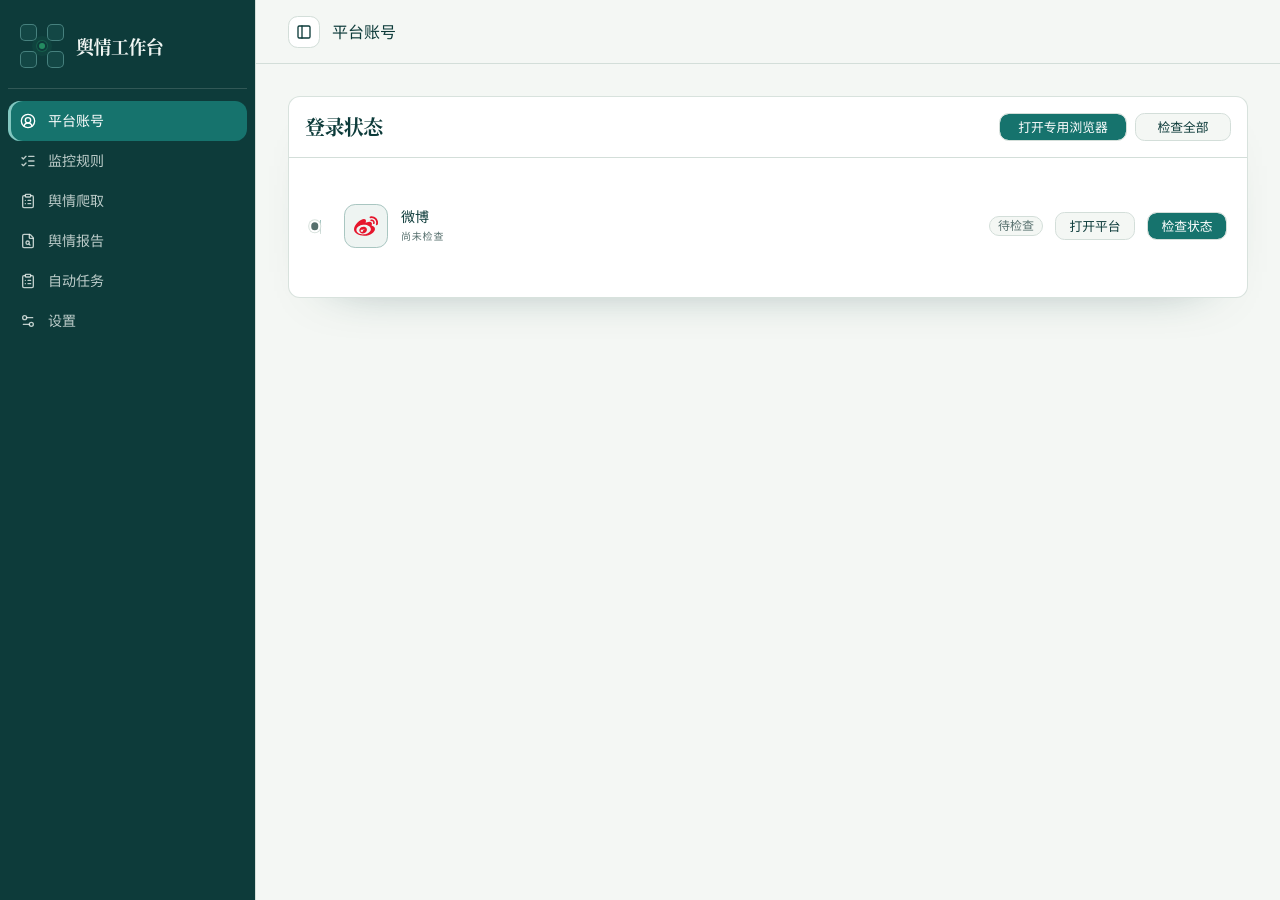
Test case: OpinionWorkbench public opinion application › keeps reports as one destination and settings as one unified page
Step 1. Click the link "设置" → x=48, y=320, box [20,311,76,330]
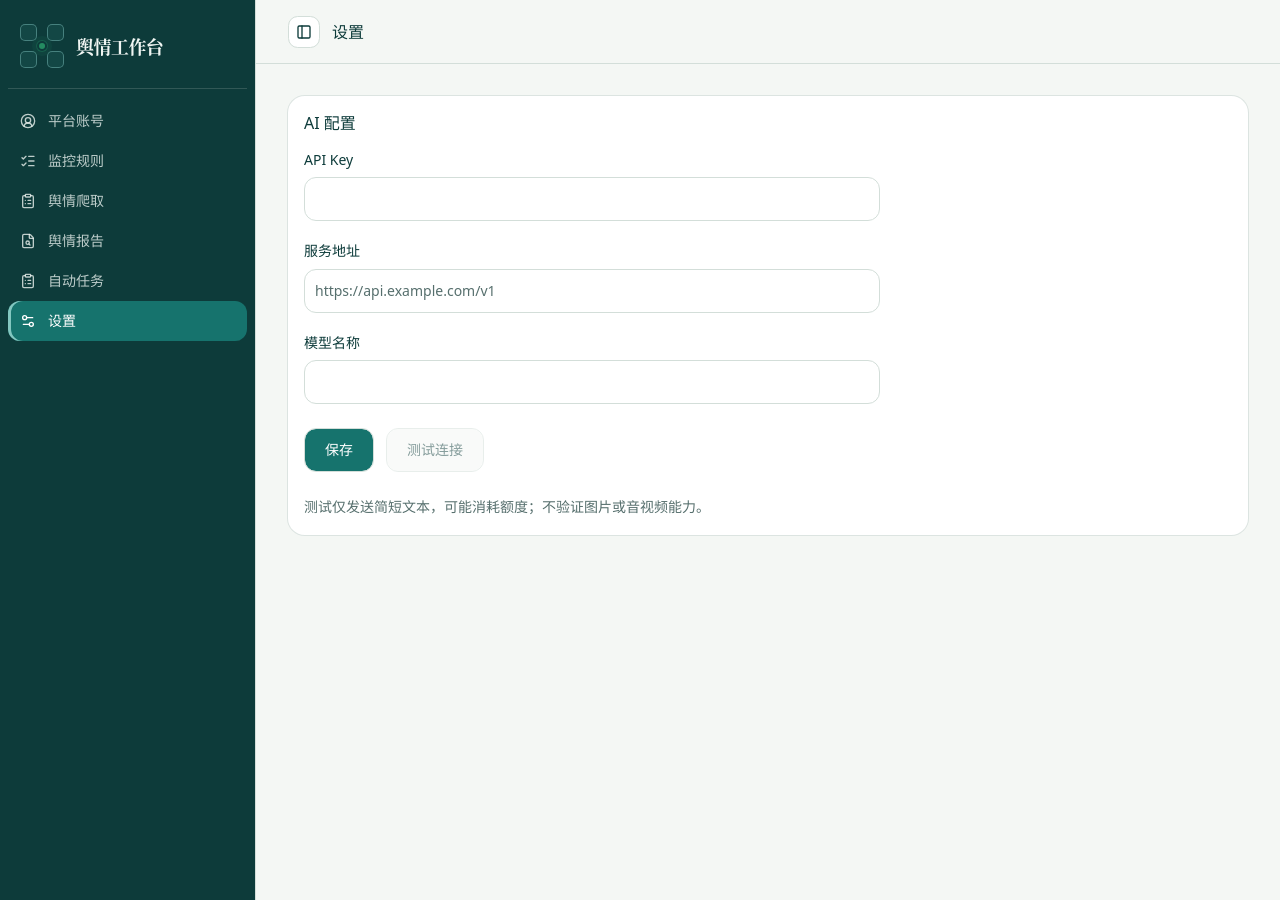
Expected: the heading "设置" is shown, [332,20,364,44]
Expected: the heading "AI 配置" is shown, [304,112,356,134]
